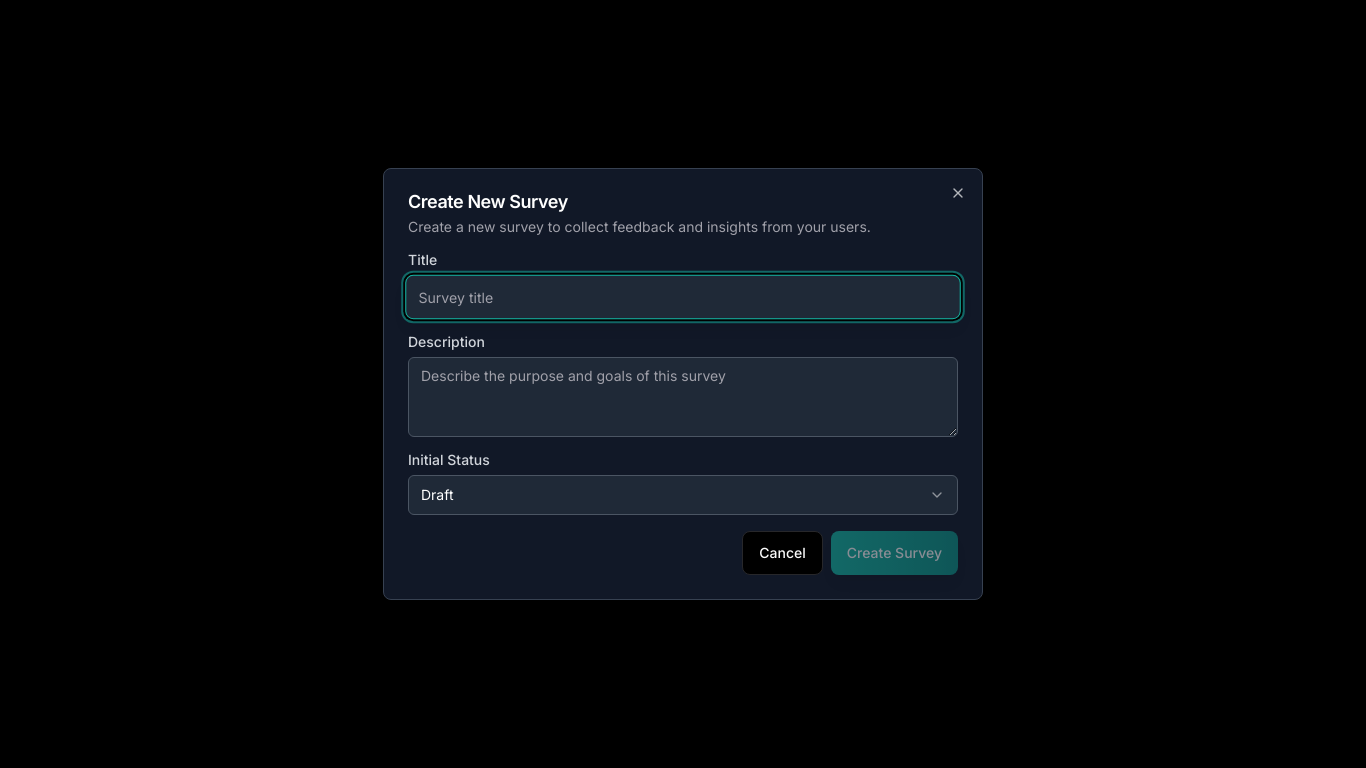
Test case: SurveyCreateDialog › validates required fields
Check: the button "Create Survey" is disabled, box [831,531,958,575]
Note: Fill in title
Type "Test Survey" into the field labelled "Title".
click(683, 297); type("Test Survey")  # box [405,275,961,319]
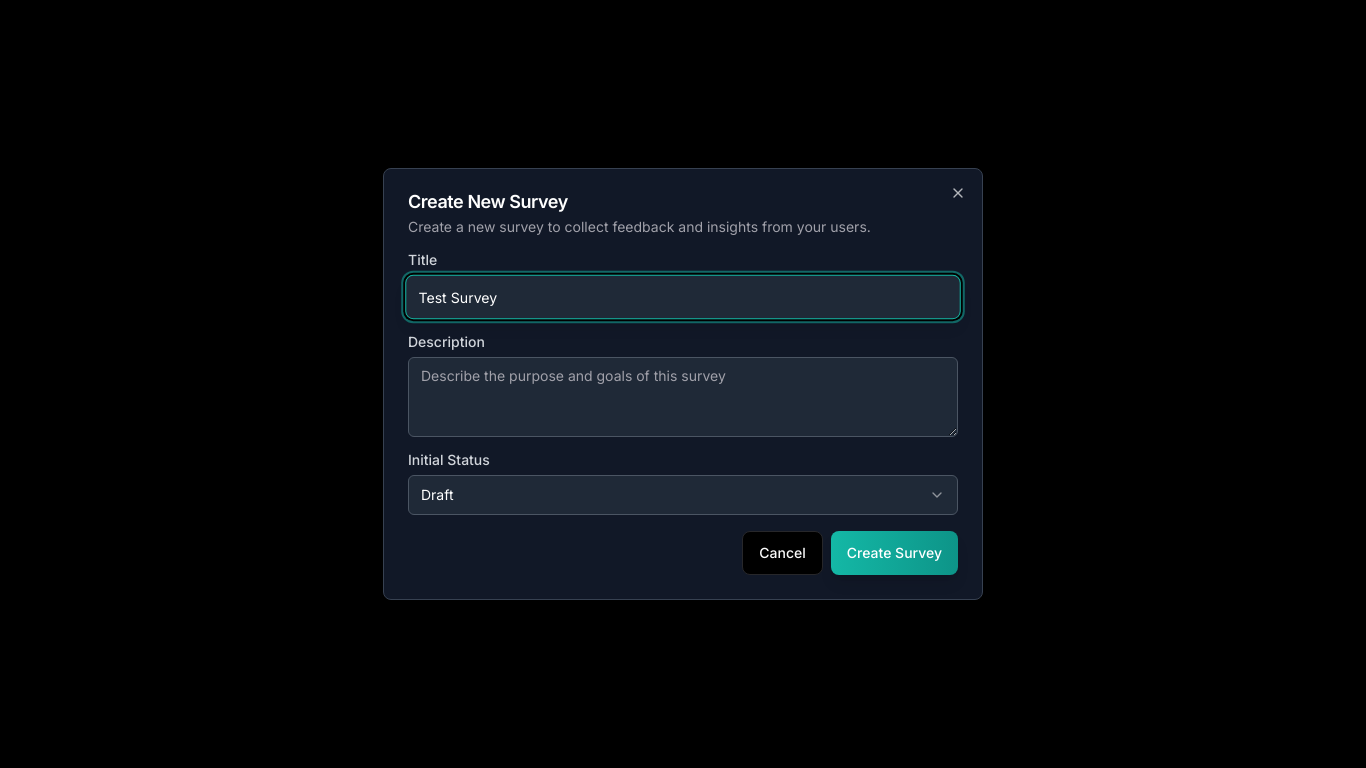
Check: the button "Create Survey" is enabled, box [831,531,958,575]
